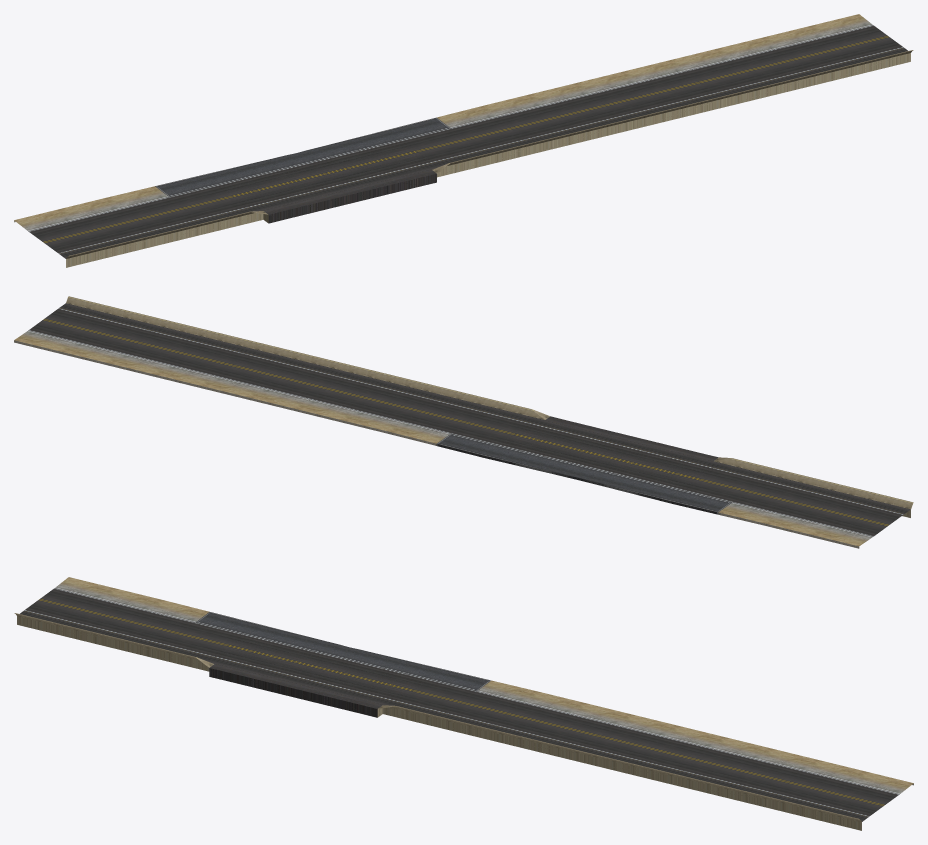
The model's file is vegaseroad015.obj.
3 views of the same model, one above another, from view 1: azimuth 30°, elevation 25°; view 2: azimuth 150°, elevation 25°; view 3: azimuth 330°, elevation 25° (orthographic).
Parts seen in each view (by area): view 1: VegasEroad015; view 2: VegasEroad015; view 3: VegasEroad015.
Boxes of the visible parts, x1,y1,x2,y2 form: VegasEroad015: [14, 14, 913, 267]; VegasEroad015: [14, 296, 913, 548]; VegasEroad015: [14, 577, 913, 830].
Bounding box in the file's own units: 180 × 2.78 × 21.09.
5 materials, 5 textured.
